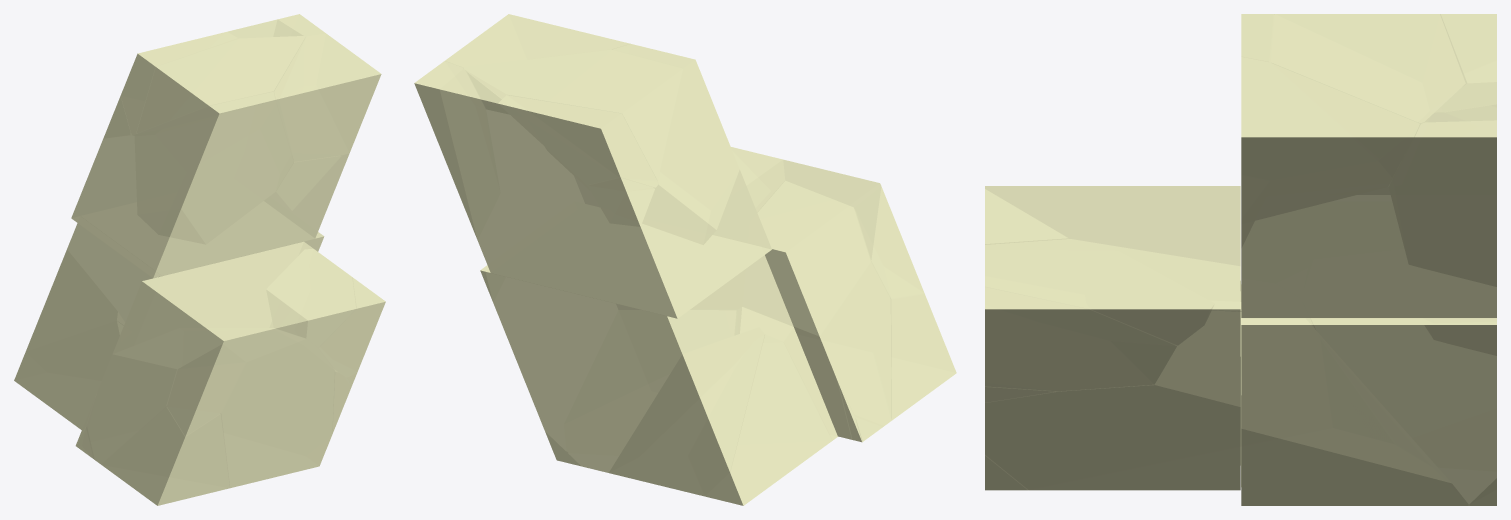
Rendered from calcite.fbx.
3 views of the same model, side by side, from view 1: azimuth 30°, elevation 25°; view 2: azimuth 150°, elevation 25°; view 3: azimuth 270°, elevation 25° (orthographic). The views are drawn at different scales.
Parts seen in each view (by area): view 1: calcite.001; view 2: calcite.001; view 3: calcite.001.
Part boxes in pixels (x1=…): calcite.001: x1=14, y1=14, x2=385, y2=505; calcite.001: x1=414, y1=14, x2=956, y2=505; calcite.001: x1=985, y1=14, x2=1496, y2=505.
Bounding box in the file's own units: 145 × 134 × 135.
